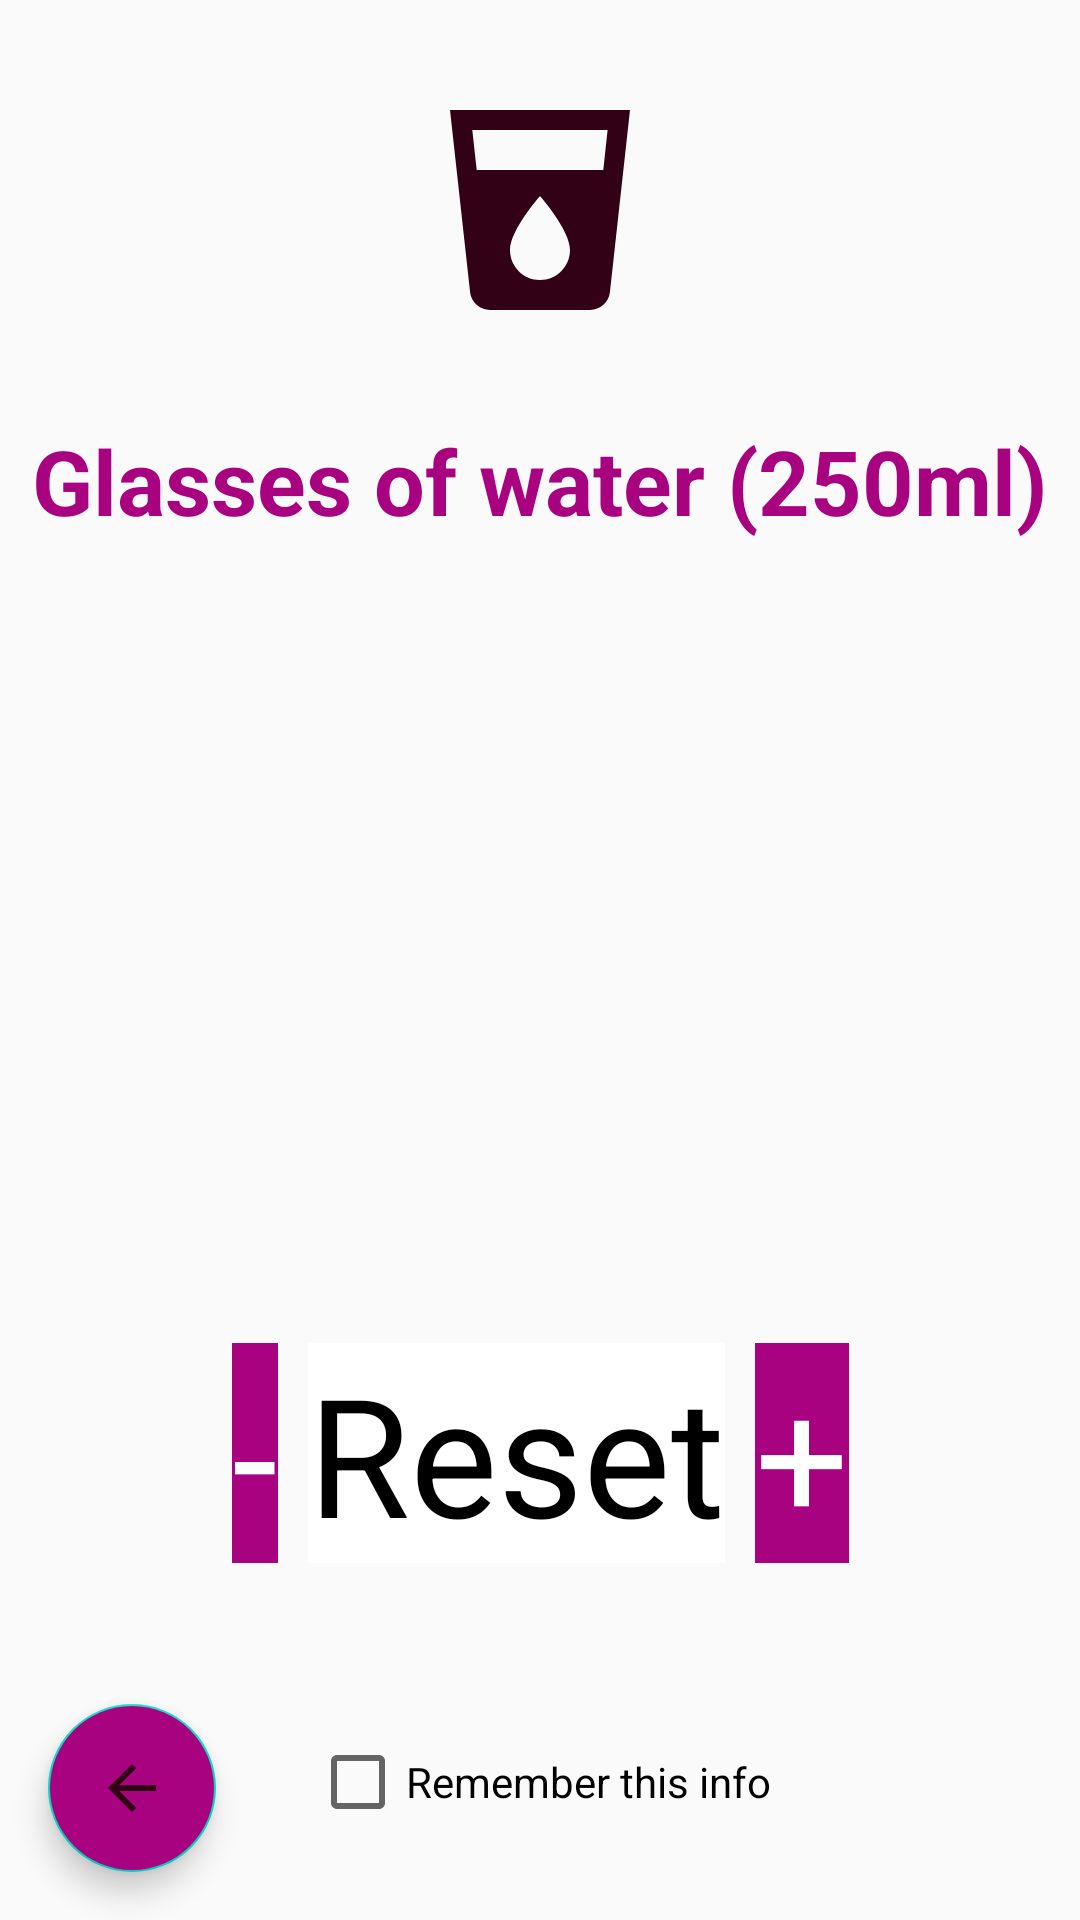

Screen size 1080×1920. Icon name, then its box in pixels as bbox=[x1, y1, x2, y2]:
backtohome: bbox=[48, 1704, 216, 1872]
